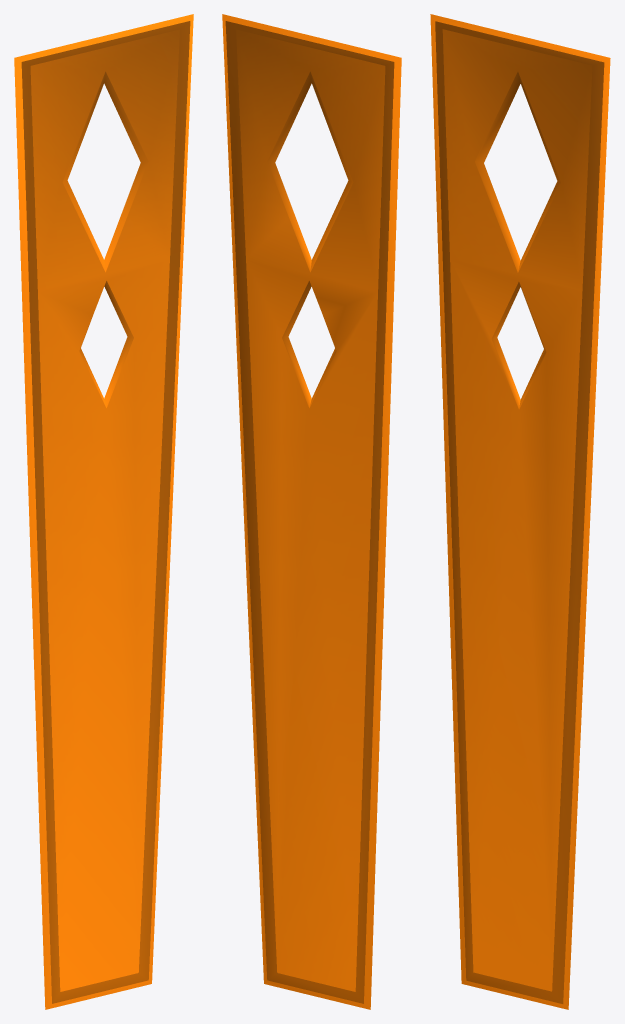
File: bronze_blade (2).glb
The picture shows the model from 3 angles, left to right: view 1: azimuth 30°, elevation 25°; view 2: azimuth 150°, elevation 25°; view 3: azimuth 330°, elevation 25°; orthographic projection.
Parts seen in each view (by area): view 1: bronze_blade_steel.041; view 2: bronze_blade_steel.041; view 3: bronze_blade_steel.041.
Part boxes in pixels (box(x1,y1,x2,y2)): bronze_blade_steel.041: box(14, 14, 193, 1009); bronze_blade_steel.041: box(222, 14, 401, 1009); bronze_blade_steel.041: box(430, 14, 610, 1009).
Size of the model in its own units: 2.19 by 11.21 by 0.0882.
Materials: 1 (1 with a texture image).
